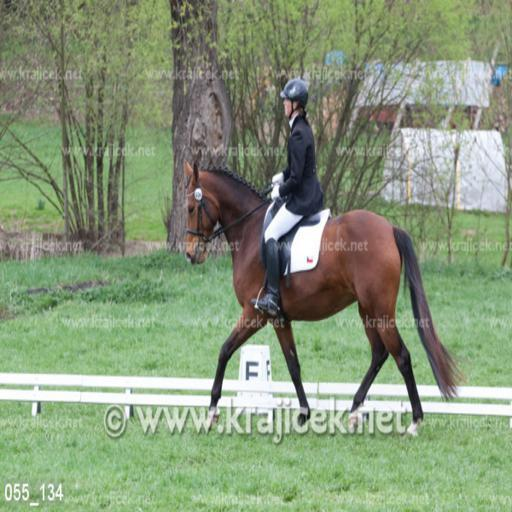horse: (185, 156, 466, 435)
